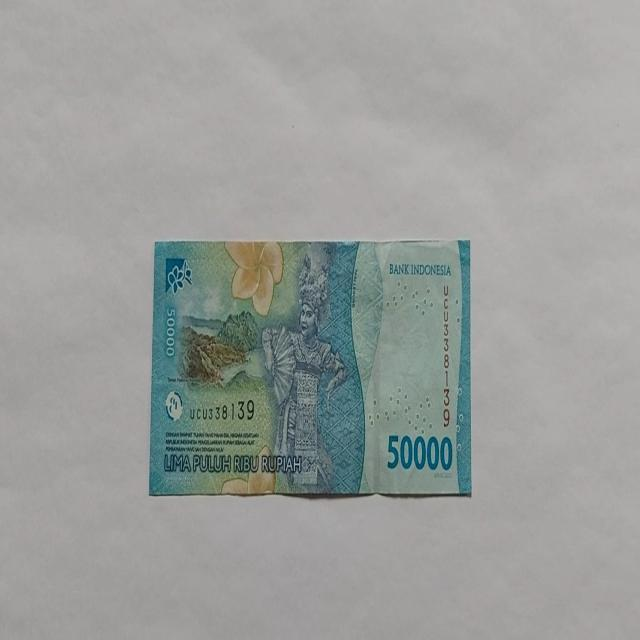lima puluh ribu rupiah: (148, 237, 472, 499)
